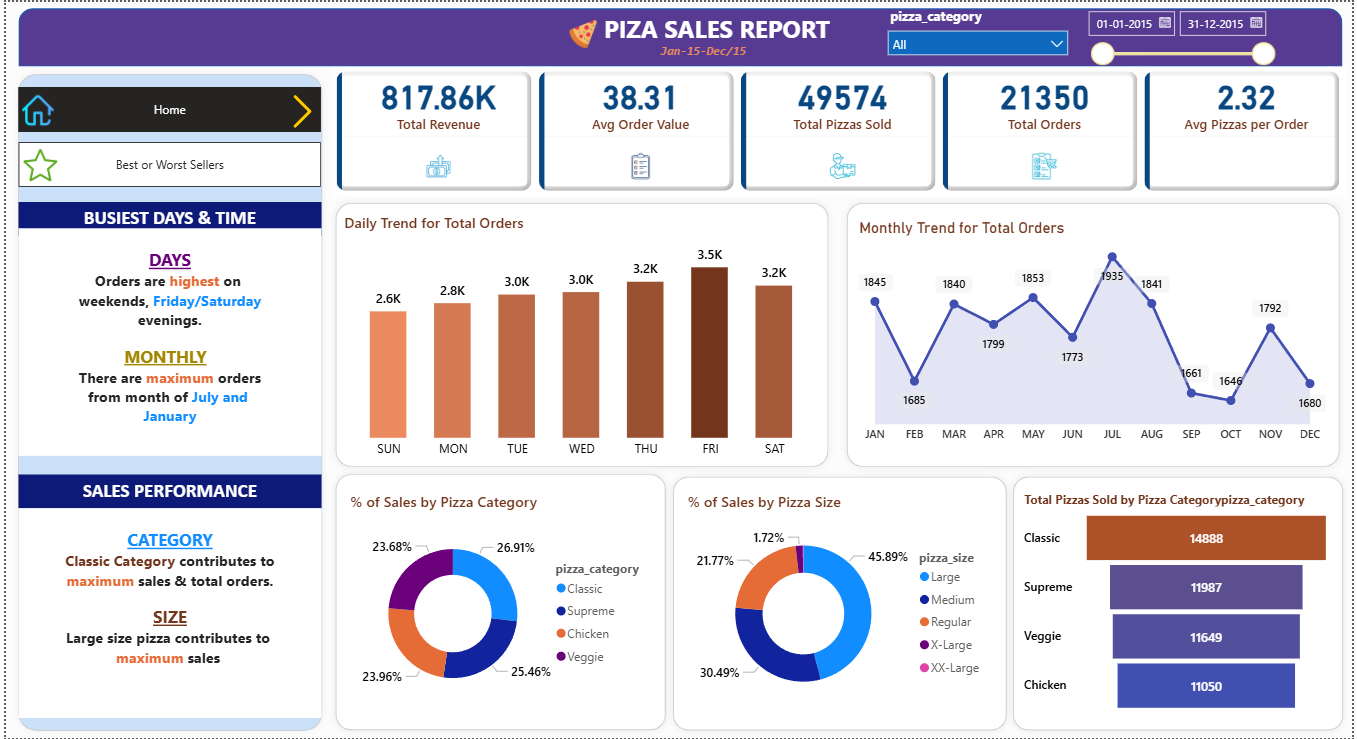

This screenshot's page, from the dashboard's own definition file:
{"tool":"powerbi","page":{"name":"Home","canvas":[1500,820],"ordinal":0},"visuals":[{"type":"shape","box":[5,72.5,355,747.5],"z":0},{"type":"cardVisual","fields":{"Data":["pizza_sales.Total Revenue","pizza_sales.Avg Order Value","pizza_sales.Total Pizzas Sold","pizza_sales.Total Orders","pizza_sales.Avg Pizzas per Order"]},"box":[363.8,72.5,1130,143.8],"z":1000},{"type":"shape","box":[13.8,7.5,1475,65],"z":2000},{"type":"textbox","box":[642.5,7.5,300,48.8],"z":3000},{"type":"textbox","box":[713.8,40,125,32.5],"z":4000},{"type":"image","box":[625,20,35,32.5],"z":5000},{"type":"shape","box":[360,216.2,565,310],"z":6000},{"type":"columnChart","title":"Daily Trend for Total Orders","fields":{"Category":["pizza_sales.Order Day"],"Y":["pizza_sales.Total Orders"]},"box":[372.5,233.8,540,283.8],"z":7000},{"type":"shape","box":[928.8,216.2,565,310],"z":8000},{"type":"areaChart","title":"Monthly Trend for Total Orders","fields":{"Category":["pizza_sales.Order Month"],"Y":["pizza_sales.Total Orders"]},"box":[946.2,241.2,530,258.8],"z":9000},{"type":"shape","box":[360,518.8,383.8,301.2],"z":10000},{"type":"shape","box":[735,521.2,387.5,298.8],"z":11000},{"type":"shape","box":[1113.8,521.2,383.8,298.8],"z":12000},{"type":"donutChart","title":"% of Sales by Pizza Category","fields":{"Category":["pizza_sales.pizza_category"],"Y":["pizza_sales.Total Revenue"]},"box":[378.8,545,347.5,252.5],"z":13000},{"type":"donutChart","title":"% of Sales by Pizza Size","fields":{"Y":["pizza_sales.Total Revenue"],"Category":["pizza_sales.pizza_size"]},"box":[755,545,347.5,252.5],"z":14000},{"type":"funnel","title":"Total Pizzas Sold by Pizza Categorypizza_category","fields":{"Category":["pizza_sales.pizza_category"],"Y":["pizza_sales.Total Pizzas Sold"]},"box":[1130,545,351.2,252.5],"z":15000},{"type":"textbox","box":[13.8,222.5,337.5,37.5],"z":16000},{"type":"textbox","box":[13.8,252.5,337.5,253.8],"z":17000},{"type":"textbox","box":[13.8,526.2,337.5,37.5],"z":18000},{"type":"textbox","box":[13.8,563.8,337.5,233.8],"z":19000},{"type":"slicer","fields":{"Values":["pizza_sales.pizza_category"]},"box":[972.5,0,221.2,65],"z":20000},{"type":"slicer","fields":{"Values":["pizza_sales.order_date"]},"box":[1193.8,0,228.8,72.5],"z":21000},{"type":"pageNavigator","box":[13.8,95,337.5,50],"z":22000},{"type":"pageNavigator","box":[13.8,156.2,337.5,50],"z":23000},{"type":"image","box":[13.8,102.5,43.8,35],"z":24000},{"type":"image","box":[308.8,102.5,42.5,37.5],"z":25000},{"type":"image","box":[20,162.5,37.5,37.5],"z":26000}]}

Visuals, with their boxes in screenshot pixels (x1, y1, x2, y2), scaled from the page's 1500x820 canvas onto the 1357x739 screenshot:
shape: bbox(5, 65, 326, 738)
cardVisual - pizza_sales.Total Revenue x pizza_sales.Avg Order Value: bbox(329, 65, 1351, 195)
shape: bbox(12, 7, 1347, 65)
textbox: bbox(581, 7, 853, 51)
textbox: bbox(646, 36, 759, 65)
image: bbox(565, 18, 597, 47)
shape: bbox(326, 195, 837, 474)
"Daily Trend for Total Orders" columnChart: bbox(337, 211, 826, 466)
shape: bbox(840, 195, 1351, 474)
"Monthly Trend for Total Orders" areaChart: bbox(856, 217, 1335, 451)
shape: bbox(326, 468, 673, 738)
shape: bbox(665, 470, 1015, 738)
shape: bbox(1008, 470, 1355, 738)
"% of Sales by Pizza Category" donutChart: bbox(343, 491, 657, 719)
"% of Sales by Pizza Size" donutChart: bbox(683, 491, 997, 719)
"Total Pizzas Sold by Pizza Categorypizza_category" funnel: bbox(1022, 491, 1340, 719)
textbox: bbox(12, 201, 318, 234)
textbox: bbox(12, 228, 318, 456)
textbox: bbox(12, 474, 318, 508)
textbox: bbox(12, 508, 318, 719)
slicer - pizza_sales.pizza_category: bbox(880, 0, 1080, 59)
slicer - pizza_sales.order_date: bbox(1080, 0, 1287, 65)
pageNavigator: bbox(12, 86, 318, 131)
pageNavigator: bbox(12, 141, 318, 186)
image: bbox(12, 92, 52, 124)
image: bbox(279, 92, 318, 126)
image: bbox(18, 146, 52, 180)
